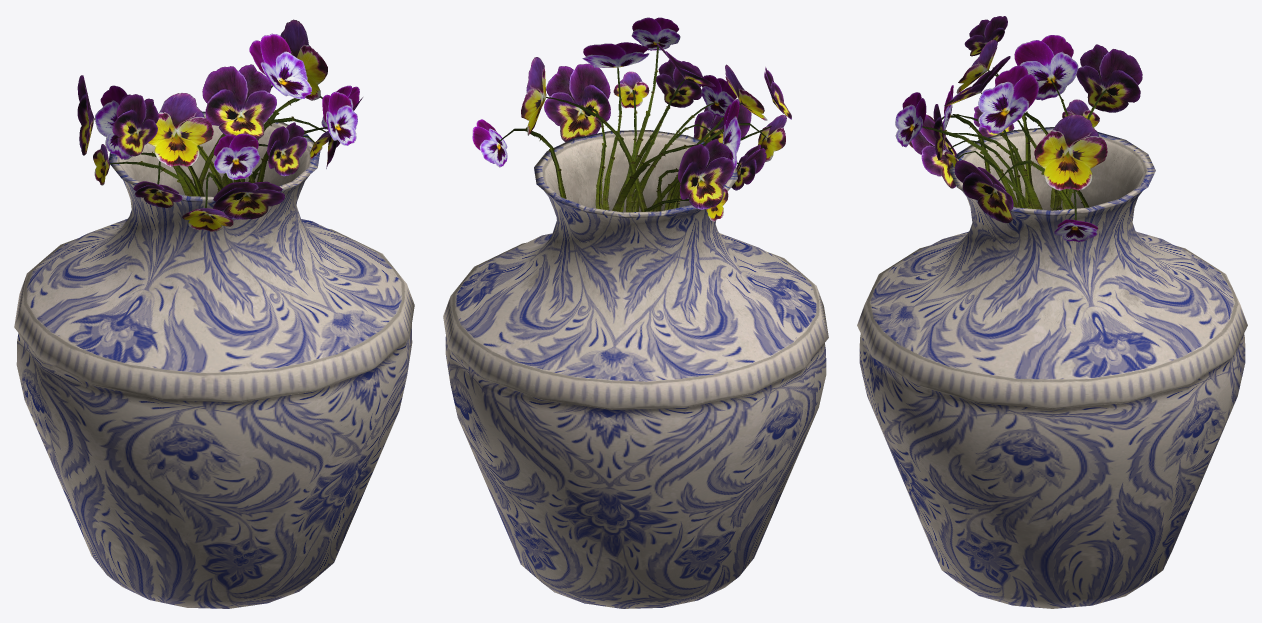
The model's file is M_Pensee_Import.fbx.
3 renders of one model, left to right at view 1: azimuth 30°, elevation 25°; view 2: azimuth 150°, elevation 25°; view 3: azimuth 270°, elevation 25°, orthographic. The views are drawn at different scales.
Parts seen in each view (by area): view 1: S_Vase, M_Pensee; view 2: S_Vase, M_Pensee; view 3: S_Vase, M_Pensee.
Boxes of the visible parts, box(x1,y1,x2,y2) form: S_Vase: box(14, 111, 414, 608); M_Pensee: box(77, 19, 362, 231); S_Vase: box(443, 130, 828, 608); M_Pensee: box(472, 17, 791, 221); S_Vase: box(857, 127, 1247, 608); M_Pensee: box(895, 16, 1142, 242).
Size of the model in its own units: 20.73 by 30.96 by 20.73.
